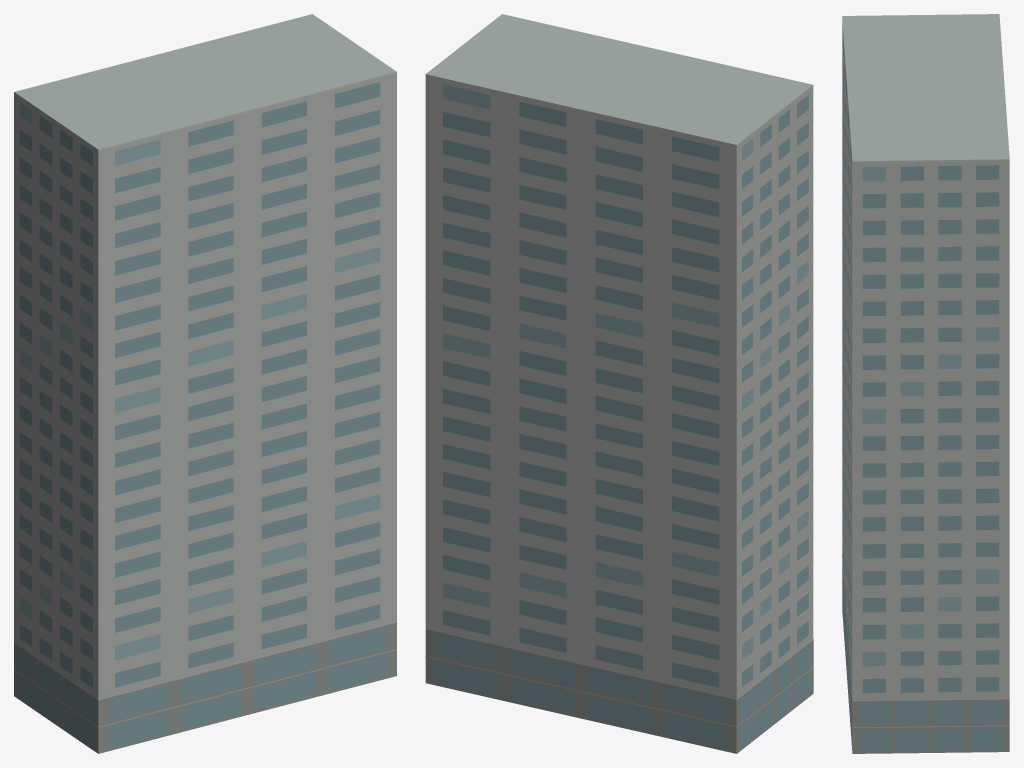
The model's file is residential-299dba17-ae2e-46fd-9ec2-61ae74d2cd92.glb.
3 renders of one model, left to right at view 1: azimuth 30°, elevation 25°; view 2: azimuth 150°, elevation 25°; view 3: azimuth 270°, elevation 25°, orthographic. The views are drawn at different scales.
Parts seen in each view (by area): view 1: residential-299dba17-ae2e-46fd-9ec2-61ae74d2cd92.tmp; view 2: residential-299dba17-ae2e-46fd-9ec2-61ae74d2cd92.tmp; view 3: residential-299dba17-ae2e-46fd-9ec2-61ae74d2cd92.tmp.
Boxes of the visible parts, x1,y1,x2,y2 form: residential-299dba17-ae2e-46fd-9ec2-61ae74d2cd92.tmp: (14, 14, 396, 753); residential-299dba17-ae2e-46fd-9ec2-61ae74d2cd92.tmp: (425, 14, 813, 753); residential-299dba17-ae2e-46fd-9ec2-61ae74d2cd92.tmp: (842, 14, 1009, 753).
Bounding box in the file's own units: 39.47 × 74 × 18.99.
